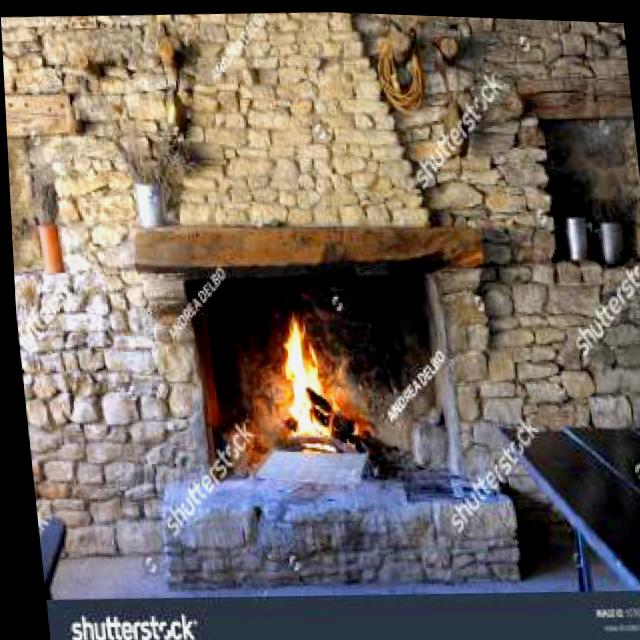helmet: (269, 303, 344, 452)
